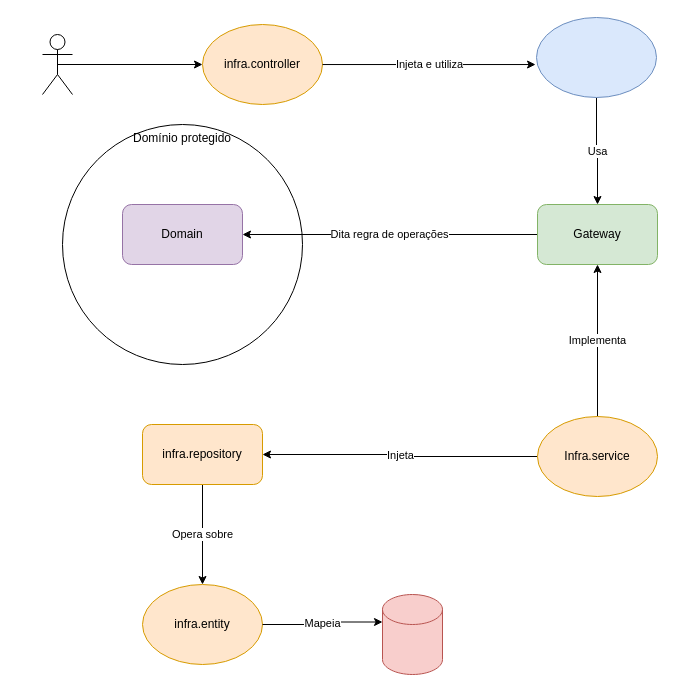
Image size: 675x692. Some labels were removed from this diagram. The centre of each missing label's shape, as x and y in pixels:
"application.usecase" belongs at [596,57].
"DB" belongs at [412,634].
"Usuário da API" belongs at [57,64].
